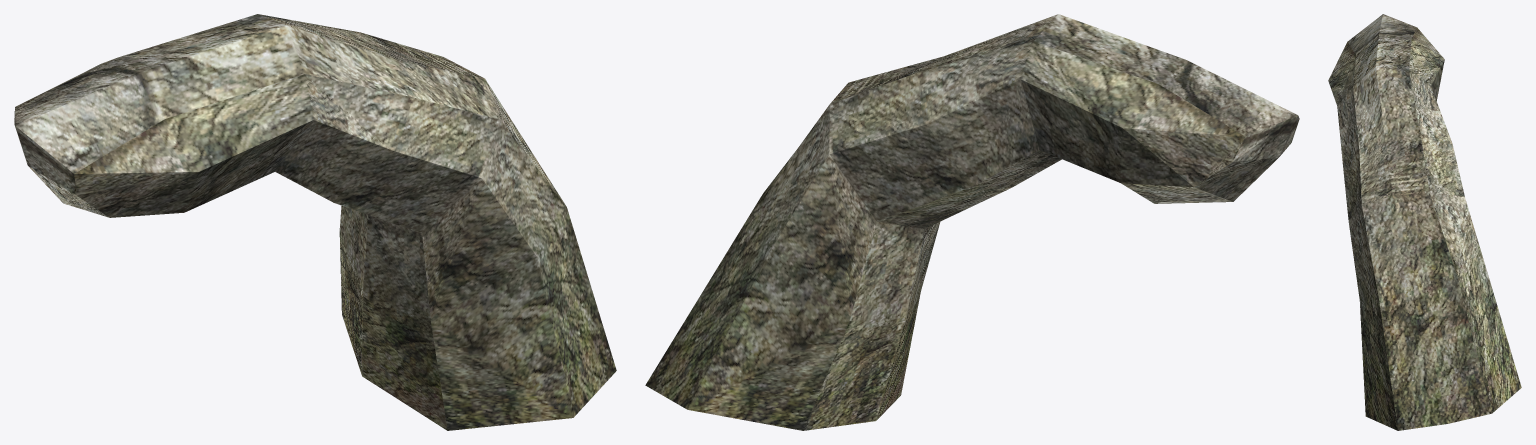
3 views of the same model, side by side, from view 1: azimuth 30°, elevation 25°; view 2: azimuth 150°, elevation 25°; view 3: azimuth 270°, elevation 25° (orthographic). The views are drawn at different scales.
Parts seen in each view (by area): view 1: Shape02; view 2: Shape02; view 3: Shape02.
Boxes of the visible parts, box(x1,y1,x2,y2) form: Shape02: box(14, 14, 616, 430); Shape02: box(645, 14, 1299, 430); Shape02: box(1328, 14, 1521, 430).
Size of the model in its own units: 11.55 by 8.07 by 5.25.
